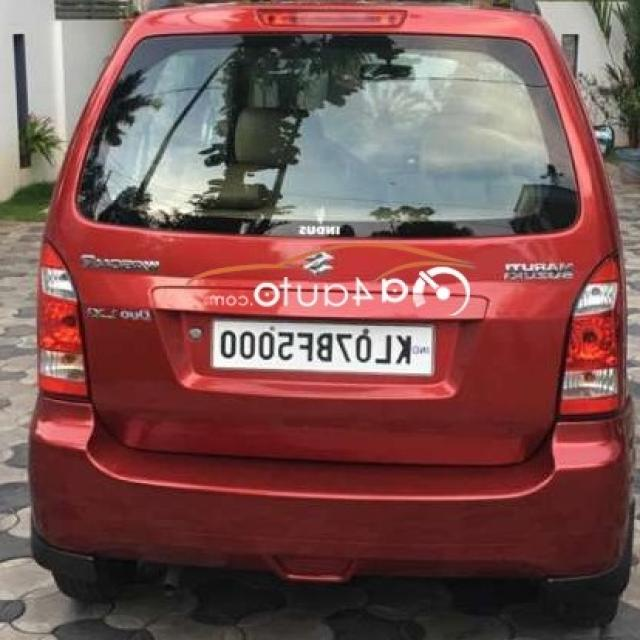number-plate: (198, 325, 438, 377)
